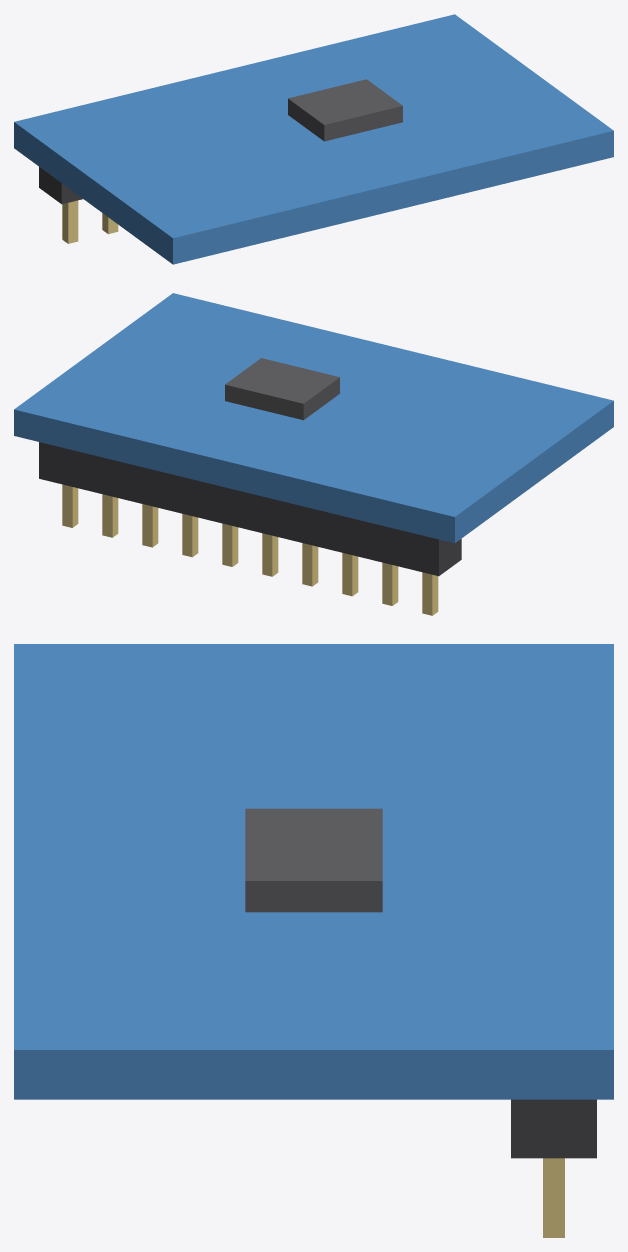
The model's file is ads1115.glb.
The picture shows the model from 3 angles, top to bottom: view 1: azimuth 30°, elevation 25°; view 2: azimuth 150°, elevation 25°; view 3: azimuth 270°, elevation 25°; orthographic projection. The views are drawn at different scales.
Parts seen in each view (by area): view 1: ads1115_1_pcb_blue, ads1115_2_chip, ads1115_13_plastic_black, ads1115_3_gold; view 2: ads1115_1_pcb_blue, ads1115_13_plastic_black, ads1115_2_chip, ads1115_3_gold, ads1115_6_gold, ads1115_4_gold, ads1115_7_gold, ads1115_8_gold, ads1115_5_gold, ads1115_11_gold, ads1115_12_gold, ads1115_9_gold (+1 smaller); view 3: ads1115_1_pcb_blue, ads1115_2_chip, ads1115_13_plastic_black, ads1115_12_gold.
Boxes of the visible parts, x1,y1,x2,y2 form: ads1115_1_pcb_blue: (14,14,613,264); ads1115_2_chip: (288,79,402,141); ads1115_13_plastic_black: (39,167,82,204); ads1115_3_gold: (62,200,78,243); ads1115_1_pcb_blue: (14,293,613,543); ads1115_13_plastic_black: (39,442,461,576); ads1115_2_chip: (225,358,339,420); ads1115_3_gold: (422,572,438,615); ads1115_6_gold: (302,543,318,586); ads1115_4_gold: (382,562,398,605); ads1115_7_gold: (262,533,278,576); ads1115_8_gold: (222,523,238,566); ads1115_5_gold: (342,553,358,596); ads1115_11_gold: (102,494,118,537); ads1115_12_gold: (62,484,78,527); ads1115_9_gold: (182,514,198,557); ads1115_1_pcb_blue: (14,644,613,1099); ads1115_2_chip: (245,808,382,912); ads1115_13_plastic_black: (511,1099,596,1158); ads1115_12_gold: (543,1158,564,1237).
Size of the model in its own units: 28 by 8.1 by 17.5.
